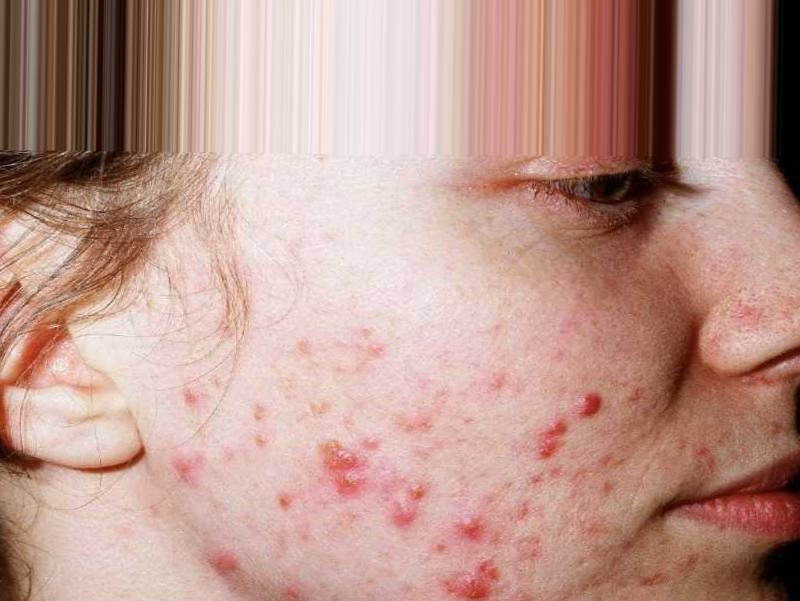Acne: (382, 467, 437, 537), (320, 428, 368, 502), (447, 560, 508, 601), (567, 382, 610, 433), (453, 502, 488, 553)
